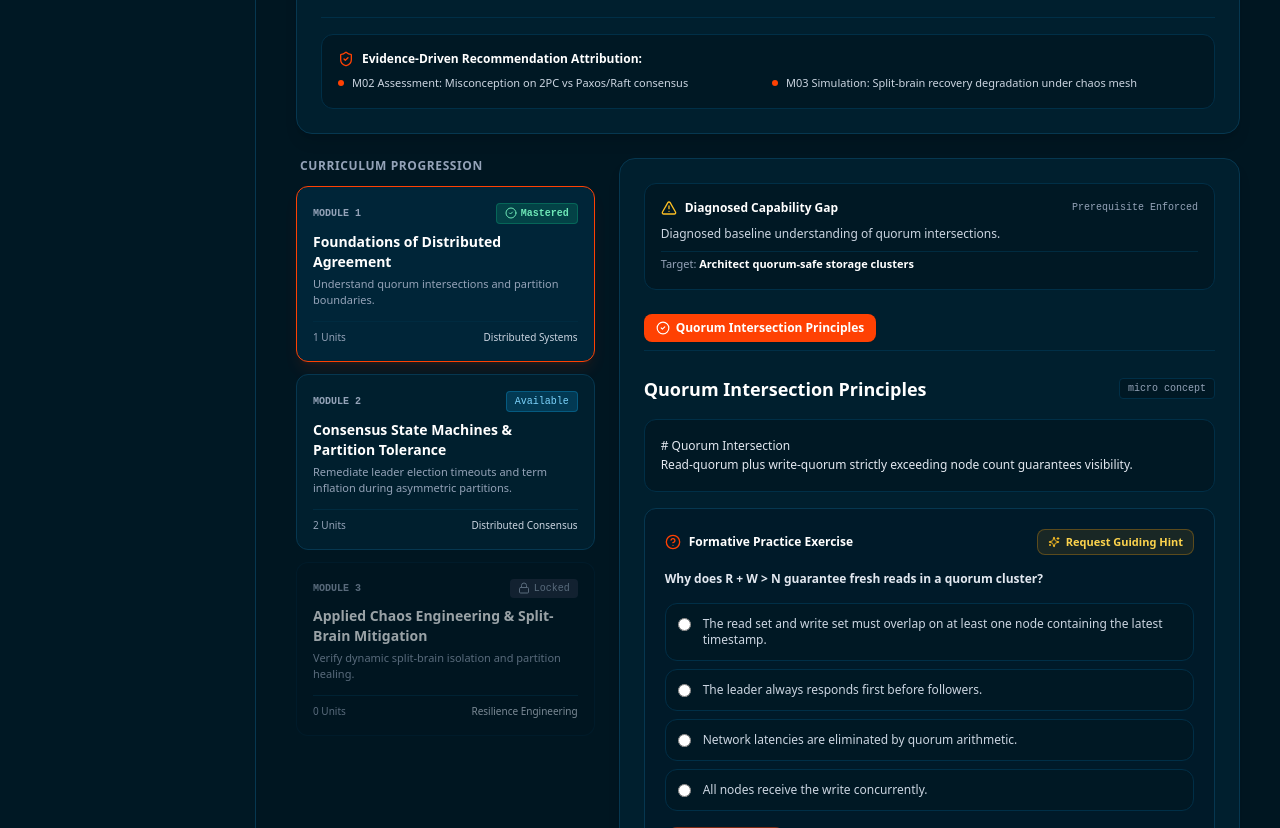
Priority 18: Training Curriculum & Learning Pathway Engine Tests › executes module reassessment gate to verify mastery and update proficiency
This screenshot has width=1280, height=828.
(page scrolled)
Click the heading "Consensus State Machines & Partition Tolerance" at [413, 439], box [313,420,512,458]
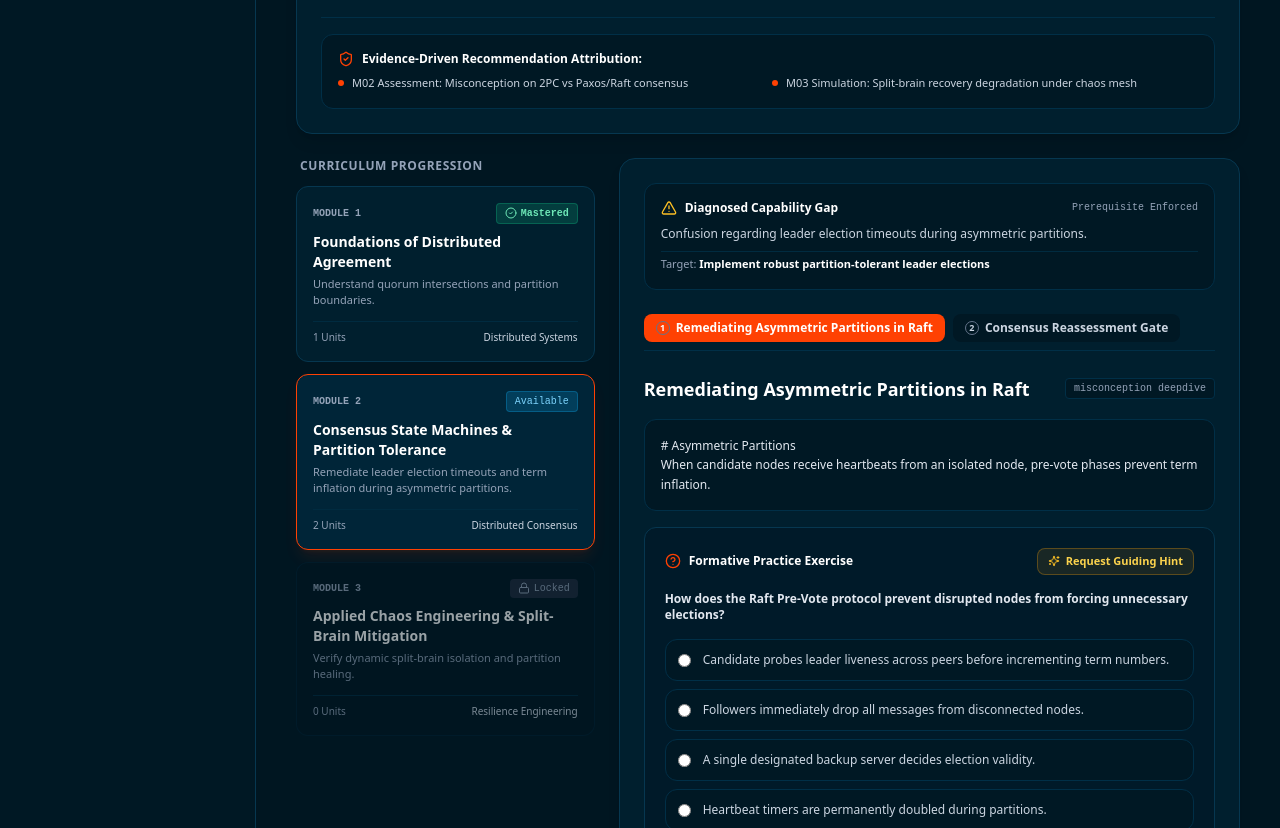
Check: the text "Consensus Reassessment Gate" is shown
Click the text "Consensus Reassessment Gate" at [1077, 328], box [985,320,1168,336]
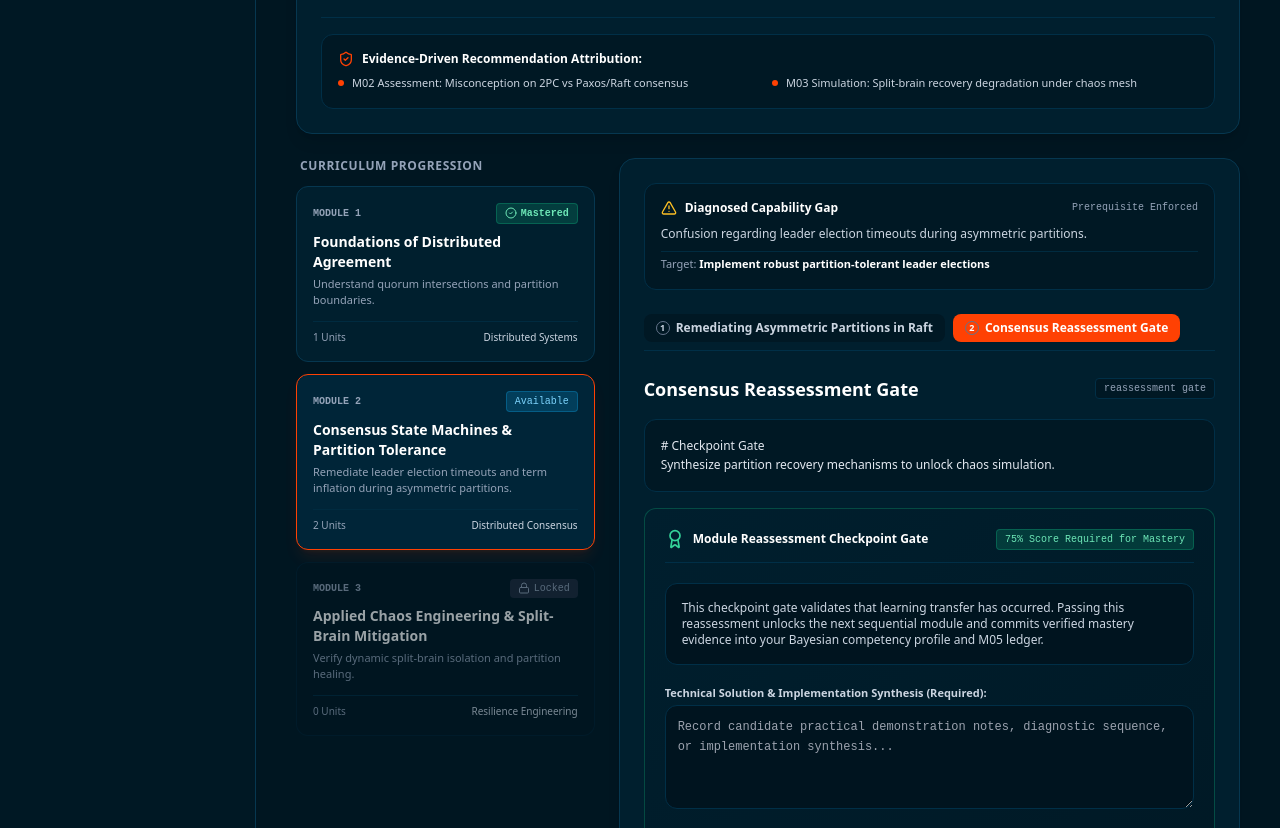
Check: the text "Module Reassessment Checkpoint Gate" is shown, box [693,531,928,547]
Replace the text in the text box with placeholder "Record candidate practical demonstration notes" with "Demonstrated split-brain isolation and validated Raft pre-vote timeout configuration." at [929, 757], box [665,705,1194,809]
(page scrolled)
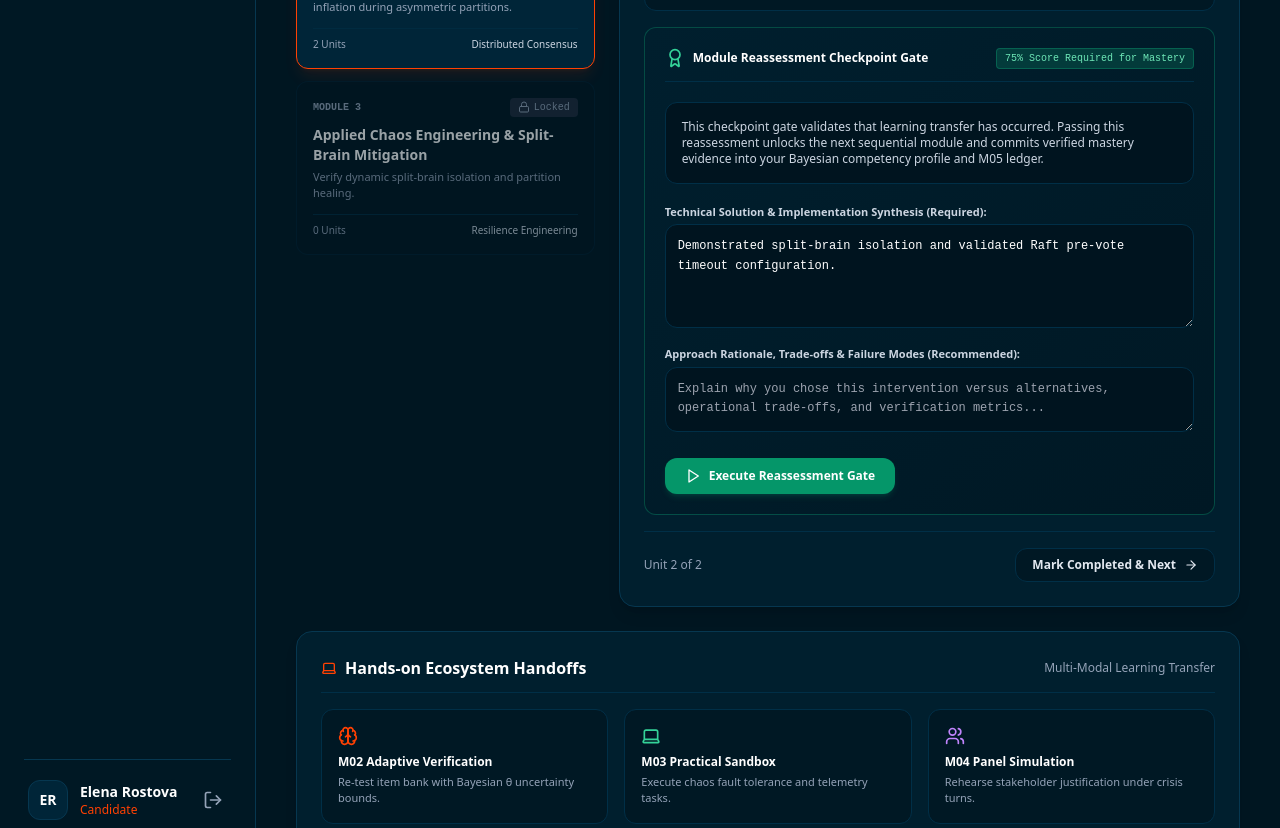
Click the button "Execute Reassessment Gate" at [780, 476], box [665,458,895,494]
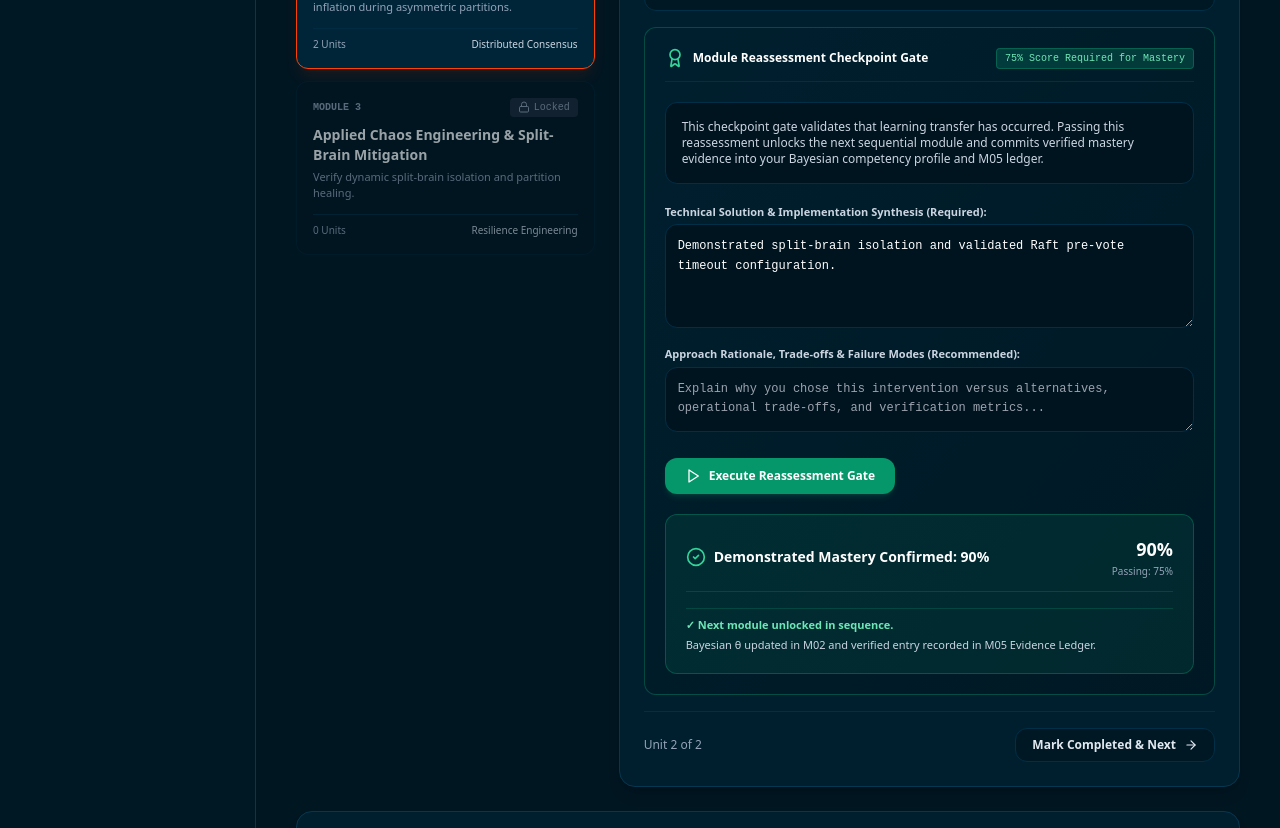
Check: the text "Demonstrated Mastery Confirmed: 90%" is shown, box [714,546,989,566]
Check: the text "Bayesian θ updated in M02 and verified entry recorded in M05 Evidence Ledger" is shown, box [686,636,1096,652]
